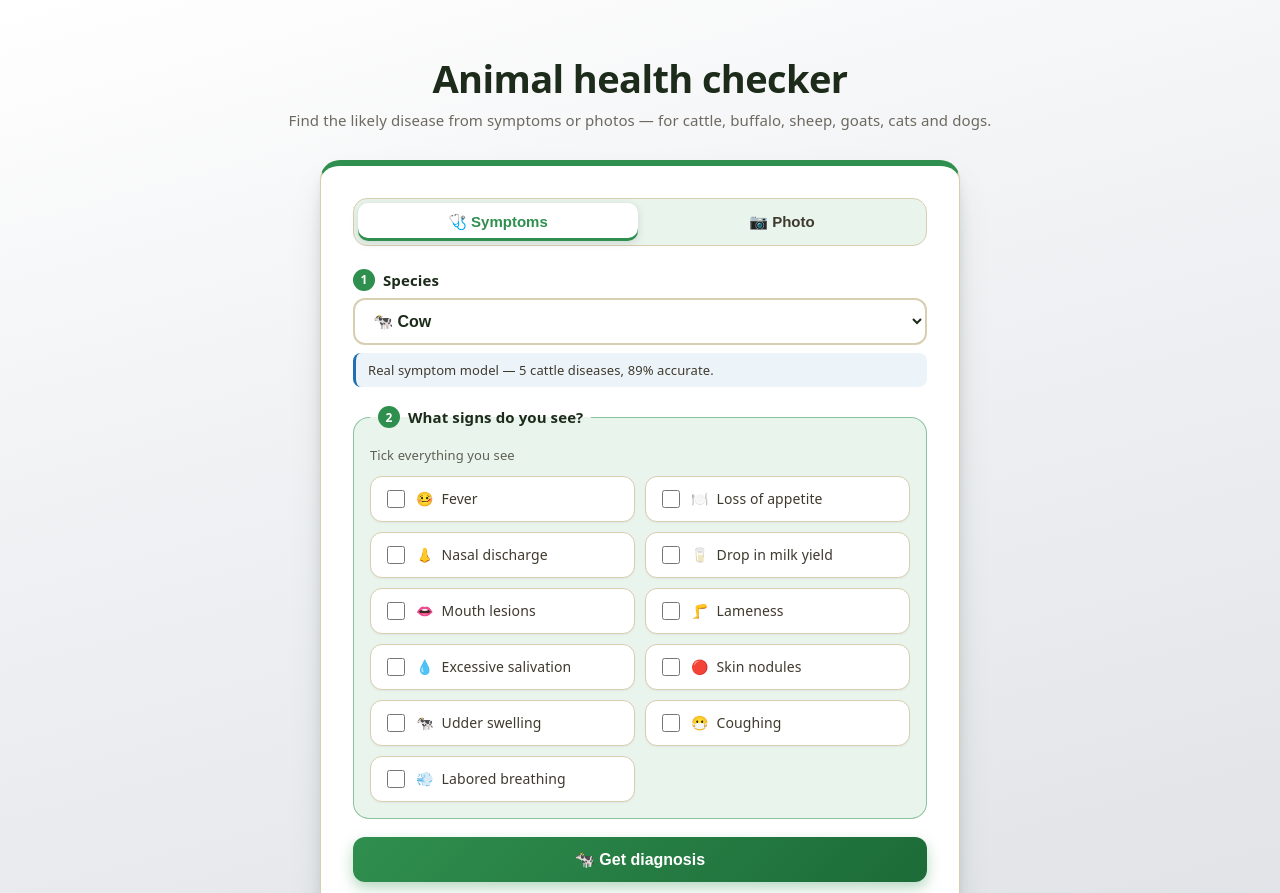
DiagnosisIntake › two screens and the result layout › says Buffalo uses the cow model, on the form and on the result
The width and height of the screenshot is (1280, 893).
Select "🐃 Buffalo" in the dropdown labelled "1 Species". click: {"x": 640, "y": 321}
box: top-left (353, 298), bottom-right (927, 345)
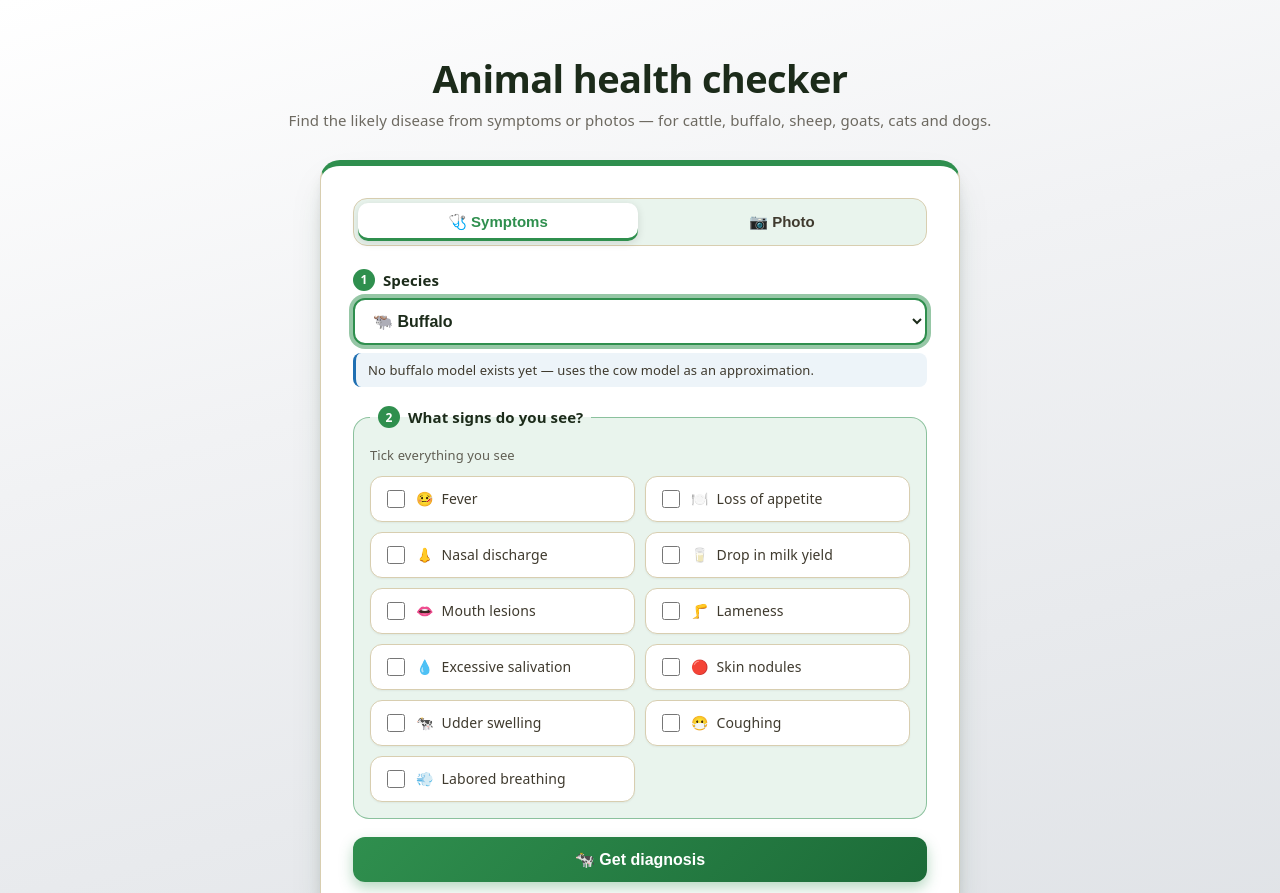
Check: the checkbox labelled "🔴 Skin nodules" is shown, box top-left (662, 658), bottom-right (680, 676)
Check: the text "uses the cow model as an approximation" is shown, box top-left (368, 361), bottom-right (814, 379)
Click the checkbox labelled "🤒 Fever". click: {"x": 396, "y": 499}
box: top-left (387, 490), bottom-right (405, 508)
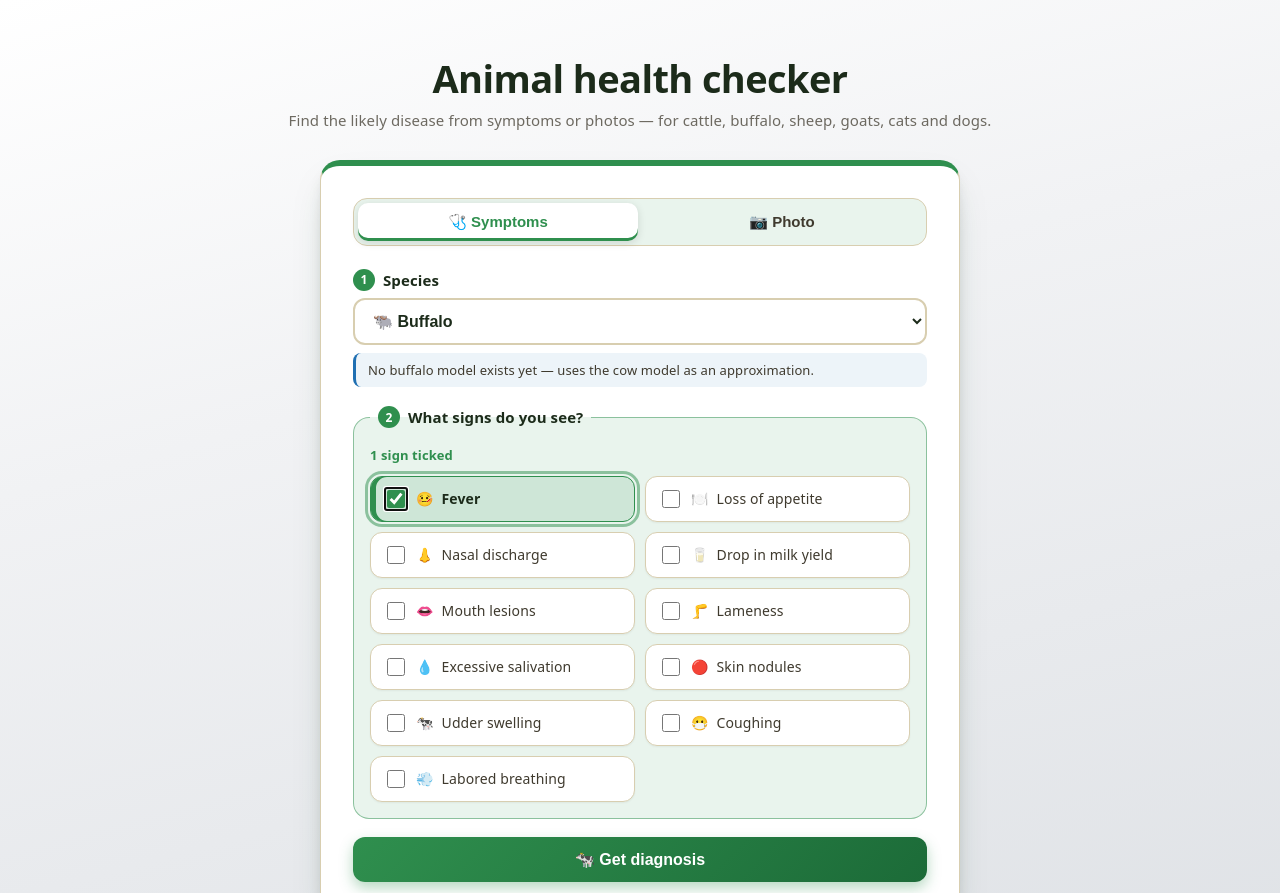
Click the button "🐄 Get diagnosis". click: {"x": 640, "y": 860}
box: top-left (353, 837), bottom-right (927, 882)
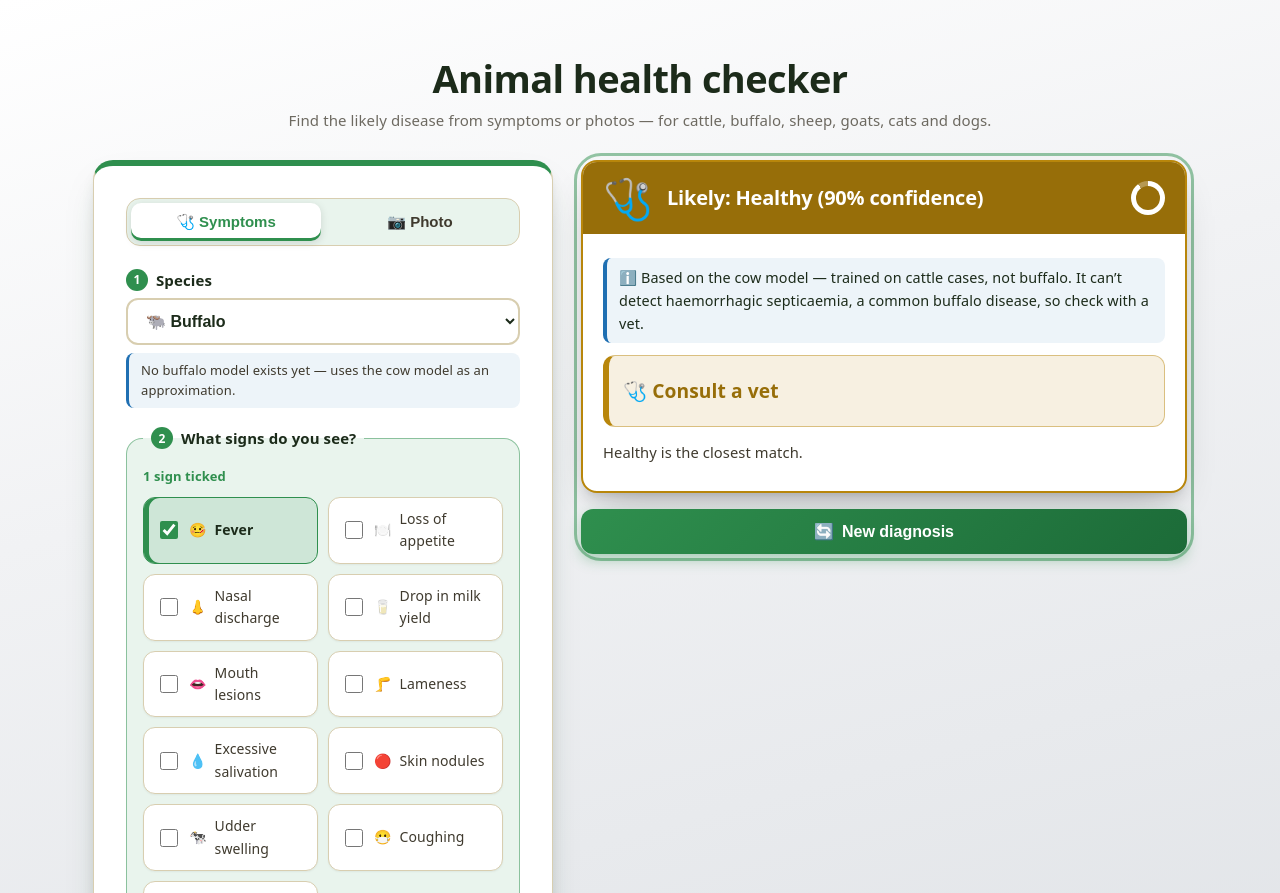
Check: the heading "Likely: Healthy (90% confidence)" is shown, box top-left (667, 185), bottom-right (983, 211)
Check: the text "haemorrhagic septicaemia" is shown, box top-left (619, 268), bottom-right (1149, 333)
Check: the text "Consult a vet" is shown, box top-left (652, 377), bottom-right (779, 404)
